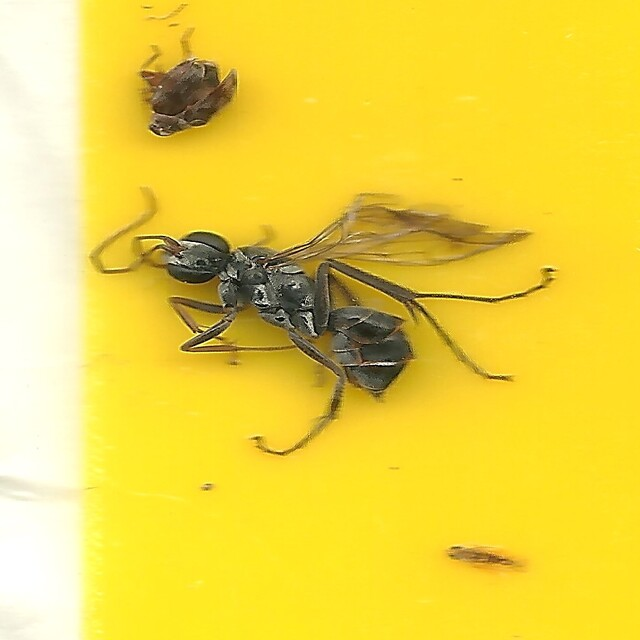Coleoptera: (144, 60, 237, 137)
Hemiptera: (441, 543, 535, 580)
Hymenoptera: (90, 191, 550, 457)
